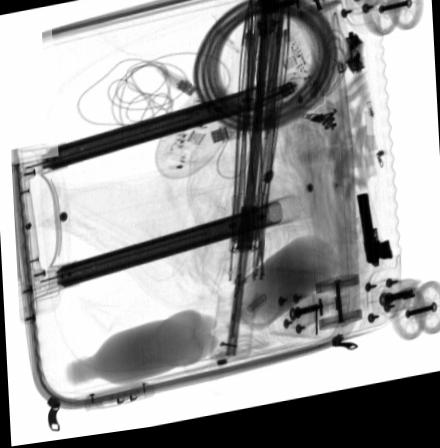Gun: (354, 204, 394, 280)
